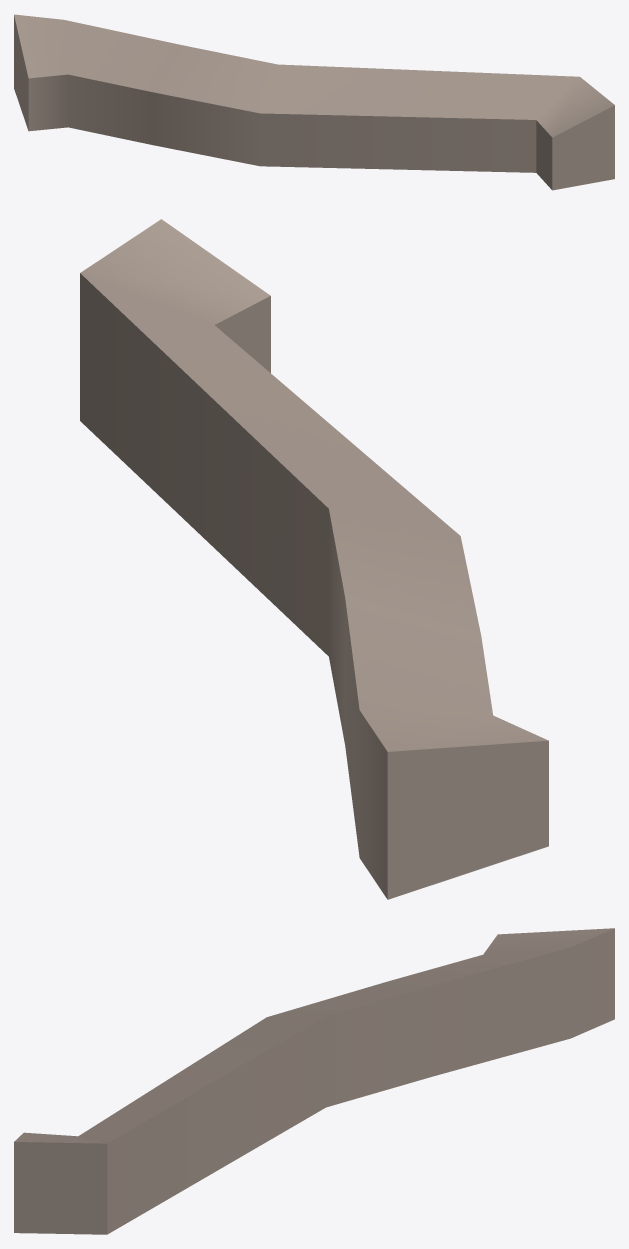
Rendered from Building_Wall_3.fbx.
3 views of the same model, one above another, from view 1: azimuth 30°, elevation 25°; view 2: azimuth 150°, elevation 25°; view 3: azimuth 270°, elevation 25° (orthographic). The views are drawn at different scales.
Visible parts, largest first — view 1: pCube27; view 2: pCube27; view 3: pCube27.
Boxes of the visible parts, x1,y1,x2,y2 form: pCube27: [14, 14, 614, 190]; pCube27: [80, 219, 548, 899]; pCube27: [14, 928, 614, 1234].
Size of the model in its own units: 30.63 by 5.57 by 32.94.
